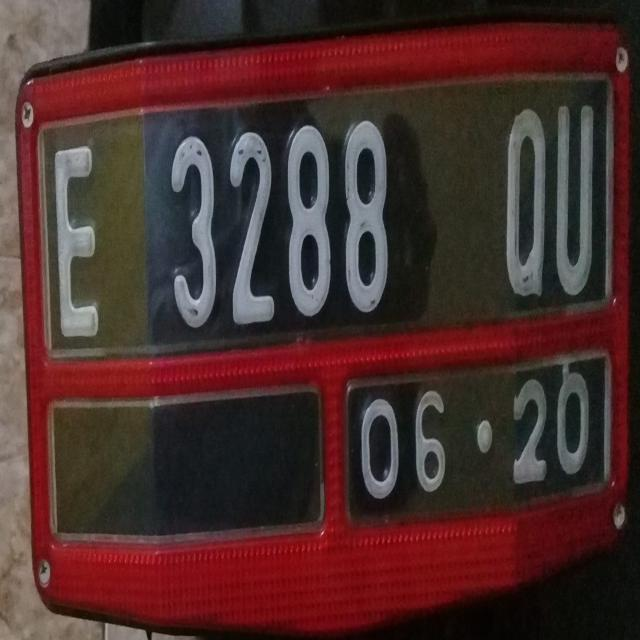plate: (39, 72, 616, 520)
